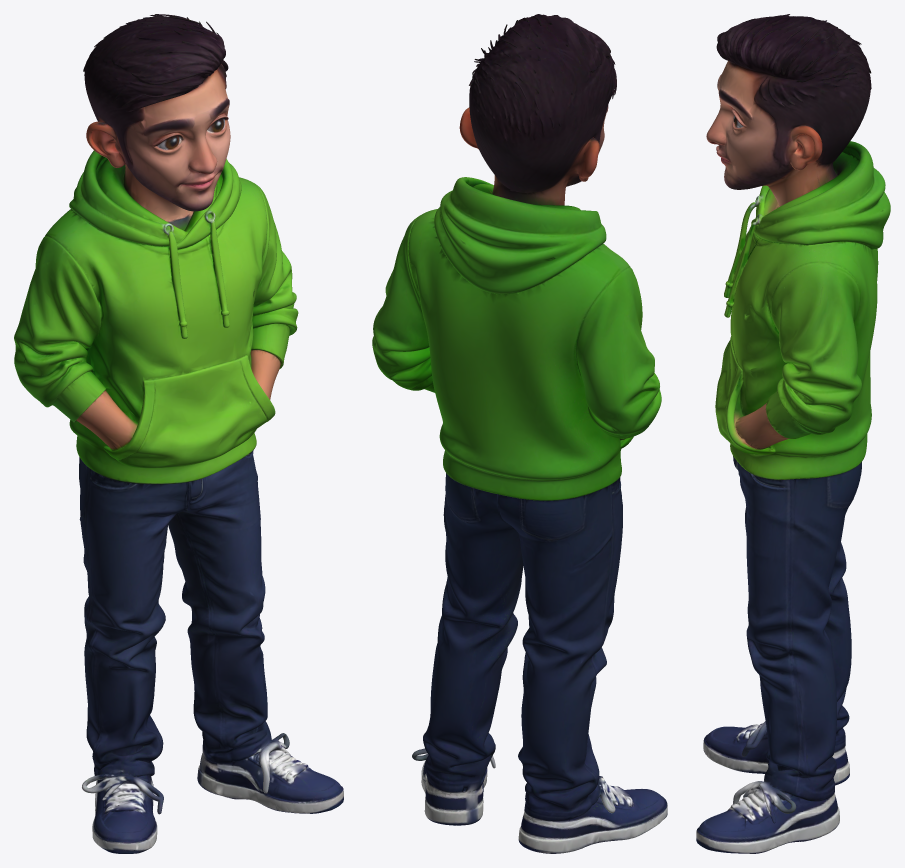
Rendered from avatar.glb.
The picture shows the model from 3 angles, left to right: view 1: azimuth 30°, elevation 25°; view 2: azimuth 150°, elevation 25°; view 3: azimuth 270°, elevation 25°; orthographic projection. The views are drawn at different scales.
Visible parts, largest first — view 1: node_0; view 2: node_0; view 3: node_0.
Part boxes in pixels (x1,y1,x2,y2): node_0: (14, 14, 343, 853); node_0: (372, 14, 667, 853); node_0: (696, 14, 890, 853).
Bounding box in the file's own units: 0.4086 × 1.13 × 0.2589.
1 material, 1 textured.
